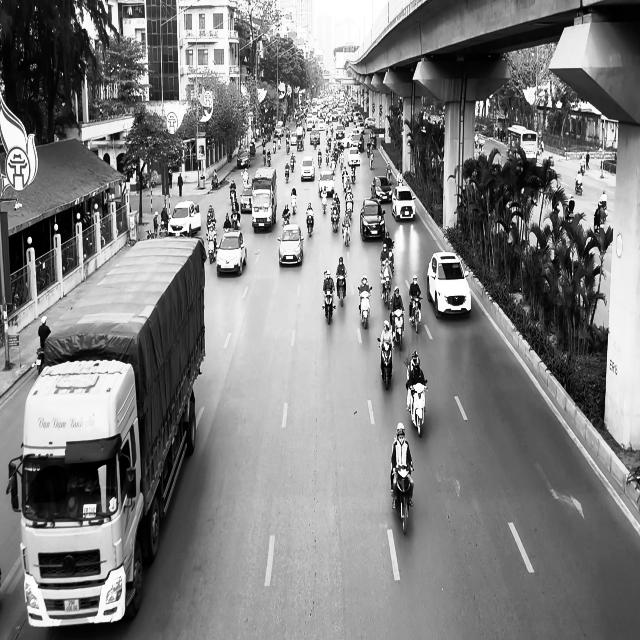bus: (506, 125, 539, 164)
car: (427, 250, 471, 318), (216, 230, 247, 276), (168, 200, 201, 237), (277, 223, 304, 266), (360, 198, 386, 241), (391, 186, 416, 220), (371, 175, 392, 203), (318, 170, 335, 196), (300, 156, 315, 181), (240, 185, 252, 213), (347, 146, 361, 166), (237, 148, 250, 169)
motorbike: (391, 464, 414, 535), (406, 379, 428, 437), (377, 337, 394, 390), (357, 286, 372, 328), (390, 309, 405, 351), (408, 295, 422, 333), (379, 272, 392, 308), (322, 288, 334, 324), (335, 272, 347, 306), (342, 212, 351, 246), (330, 204, 340, 232), (207, 237, 216, 264), (306, 210, 314, 236), (282, 208, 290, 228), (290, 195, 296, 214)
truck: (7, 235, 206, 628)
